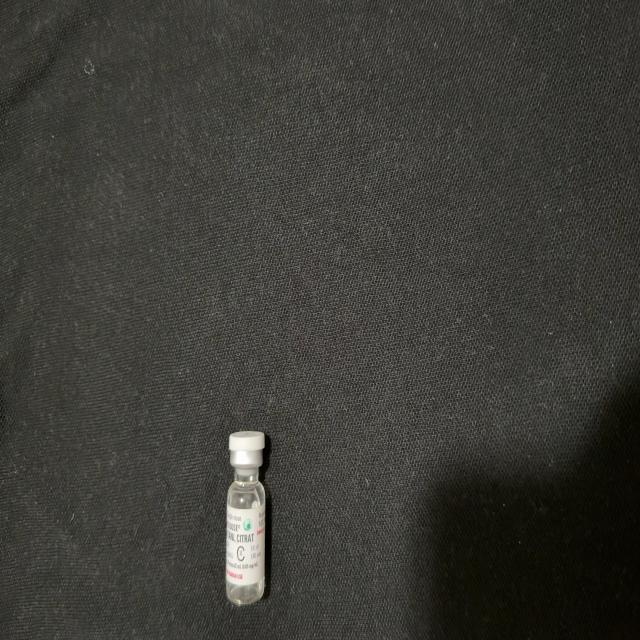fentanl_citrat: (226, 433, 266, 602)
